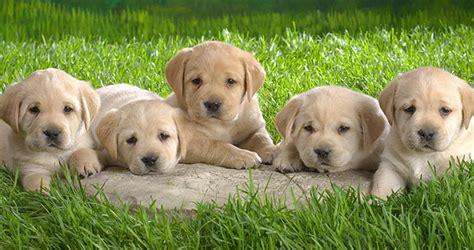dog: (165, 40, 272, 168), (374, 67, 473, 199), (1, 68, 100, 192), (272, 86, 385, 173), (93, 83, 193, 175)
